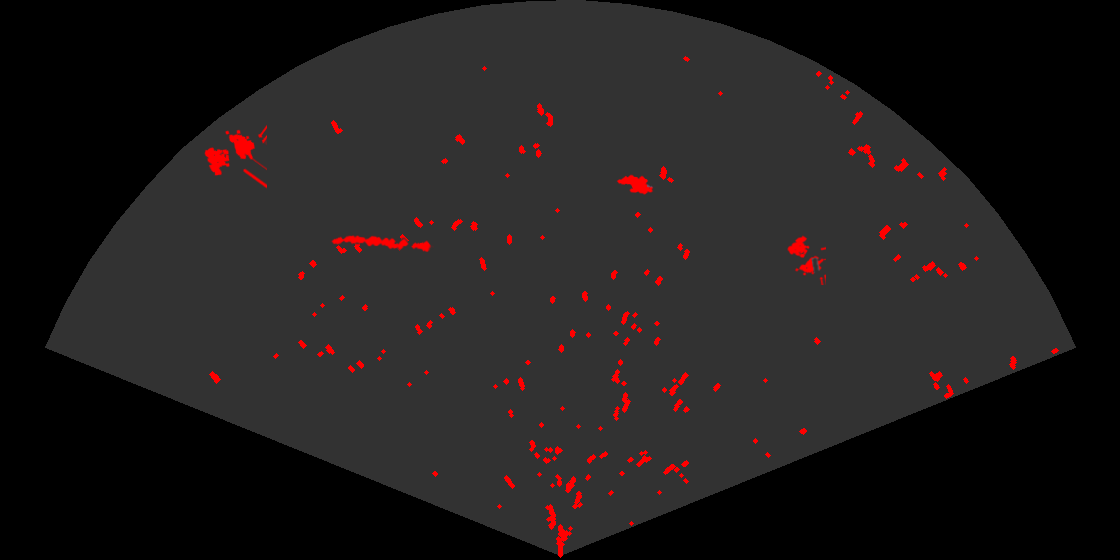AUV: (615, 173, 655, 196)
cage: (203, 123, 267, 190), (786, 234, 826, 285)
chain: (330, 234, 434, 254)
